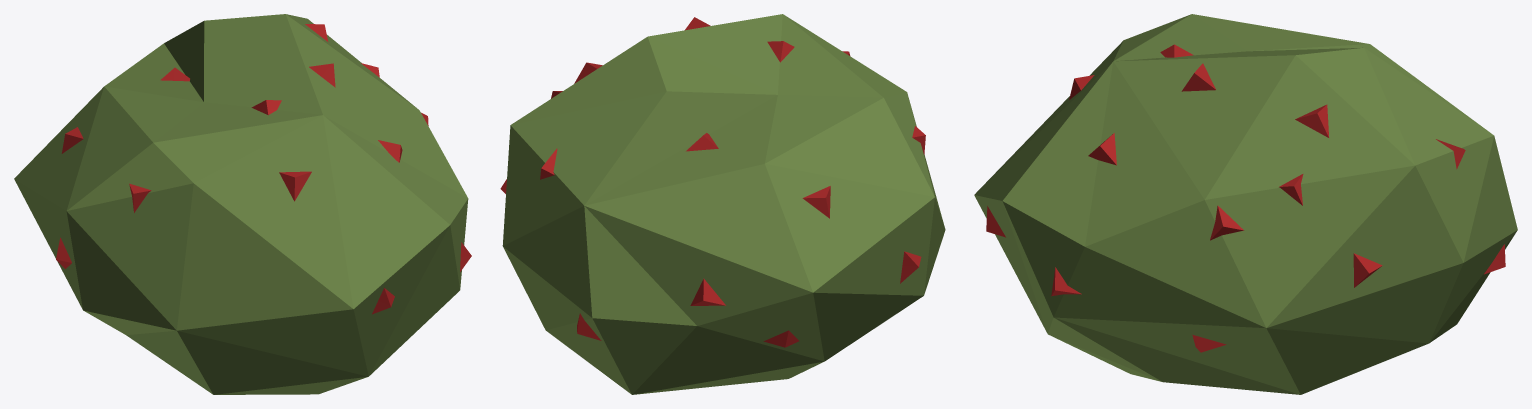
The model's file is SM_Bush_3.FBX.
3 views of the same model, side by side, from view 1: azimuth 30°, elevation 25°; view 2: azimuth 150°, elevation 25°; view 3: azimuth 270°, elevation 25° (orthographic). The views are drawn at different scales.
Visible parts, largest first — view 1: SM_Bush_3; view 2: SM_Bush_3; view 3: SM_Bush_3.
Boxes of the visible parts, <box> form: SM_Bush_3: <box>14,14,471,394</box>; SM_Bush_3: <box>500,14,945,394</box>; SM_Bush_3: <box>974,14,1517,394</box>.
Size of what is drawn, in the model's own units: 164 by 184 by 130.
